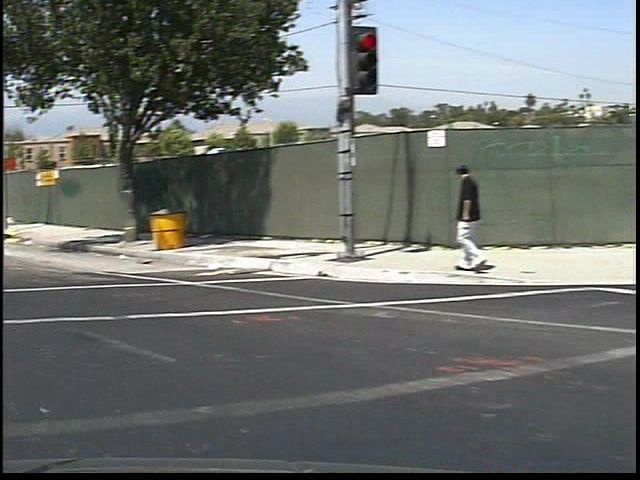person: (433, 155, 487, 286)
